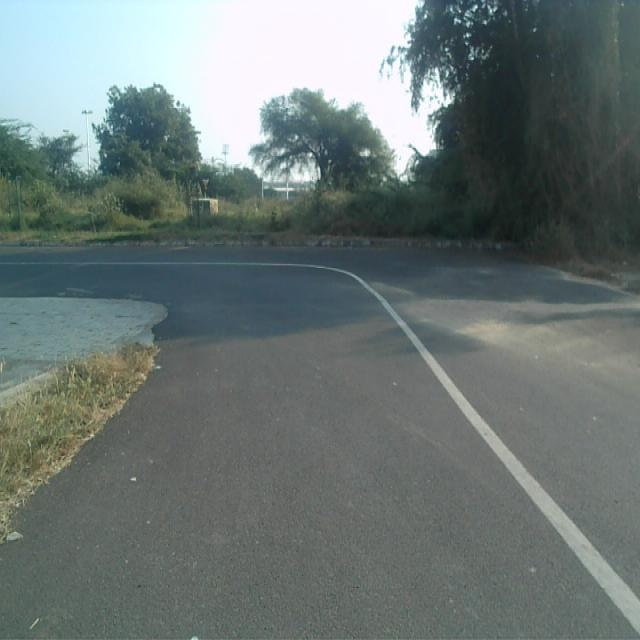lane: (0, 265, 640, 640)
